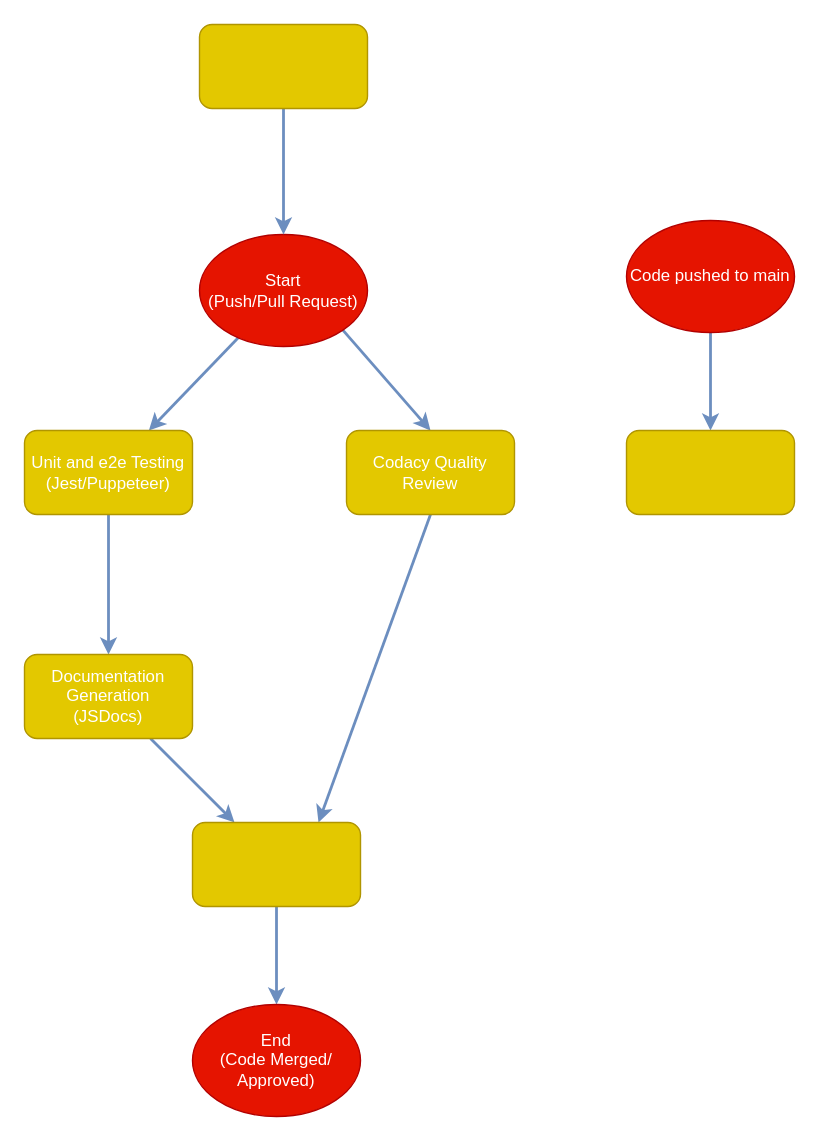
Some shapes in this 819 by 1141 pixel diagram are drawn without their labels. The centre of each missing label's shape, as x and y in pixels:
GitHub Page Launch: point (709, 471)
Prettier applied before pushing: point (283, 65)
Real Person Code Review Approval: point (275, 863)
